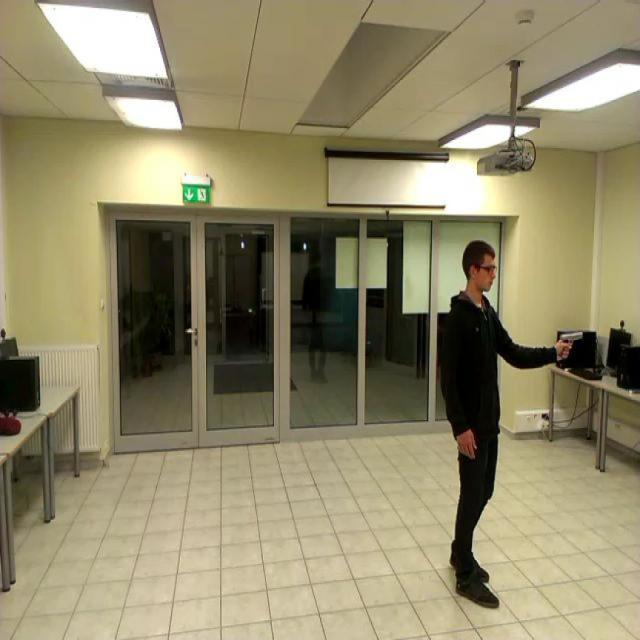pistol: (561, 330, 584, 354)
